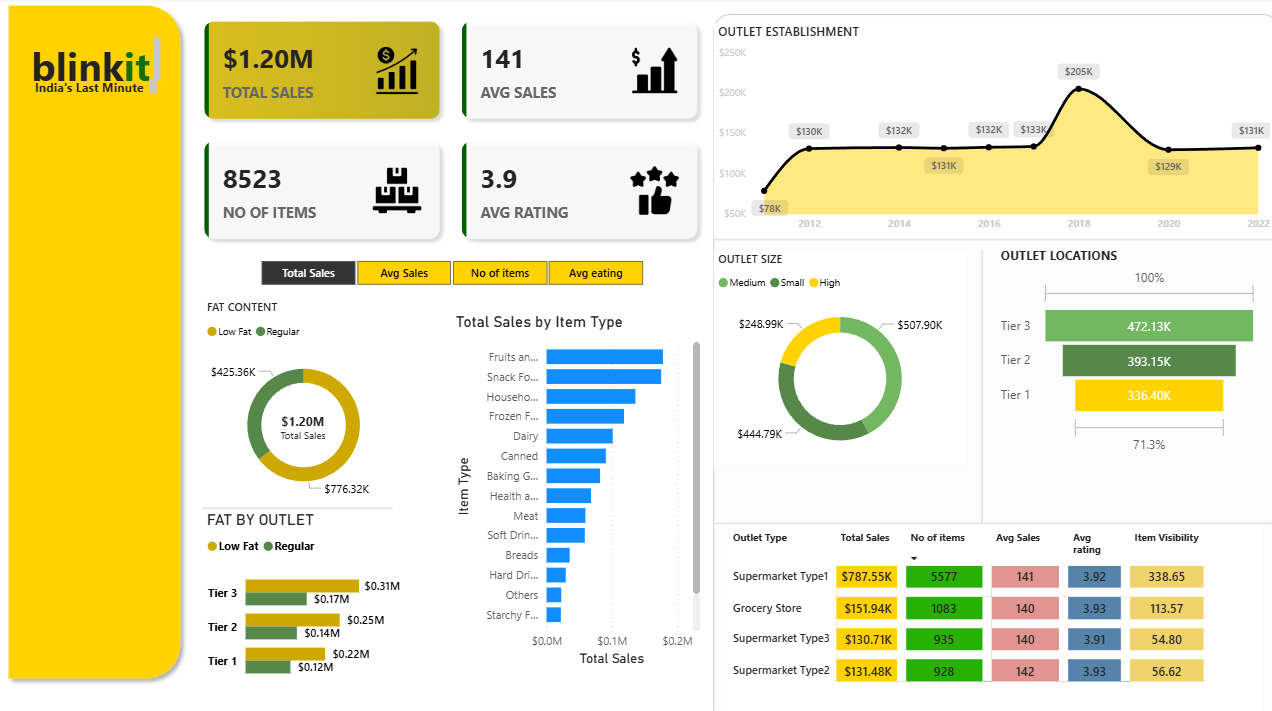

The page's visual inventory and layout, read from the dashboard file:
{"tool":"powerbi","page":{"name":"Page 1","canvas":[1400,800],"ordinal":0},"visuals":[{"type":"shape","box":[0,0,205.2,750],"z":0},{"type":"textbox","box":[27.2,39.4,152.2,61.1],"z":1000},{"type":"textbox","box":[27,84,148.6,31.5],"z":2000},{"type":"cardVisual","fields":{"Data":["BlinkIT Grocery Data.Total Sales","BlinkIT Grocery Data.Avg Sales","BlinkIT Grocery Data.No of items","BlinkIT Grocery Data.Avg eating"]},"box":[205.2,9.5,570.7,270.4],"z":3000},{"type":"donutChart","title":"FAT CONTENT","fields":{"Y":["BlinkIT Grocery Data.Total Sales"],"Category":["BlinkIT Grocery Data.Item Fat Content"]},"box":[220.1,328.8,220.1,229.6],"z":4000},{"type":"slicer","fields":{"Values":["Metrics.Metrics"]},"box":[258.2,279.9,464.7,39.4],"z":5000},{"type":"cardVisual","fields":{"Data":["BlinkIT Grocery Data.Total Sales"]},"box":[285.3,434.8,88.3,61.1],"z":6000},{"type":"clusteredBarChart","title":"FAT BY OUTLET","fields":{"Y":["BlinkIT Grocery Data.Total Sales"],"Category":["BlinkIT Grocery Data.Outlet Location Type"],"Series":["BlinkIT Grocery Data.Item Fat Content"]},"box":[220.1,558.4,220.1,198.4],"z":7000},{"type":"shape","box":[220.1,531.3,206.5,48.9],"z":8000},{"type":"barChart","fields":{"Y":["BlinkIT Grocery Data.Total Sales"],"Category":["BlinkIT Grocery Data.Item Type"]},"box":[490.5,342.4,275.8,389.9],"z":9000},{"type":"shape","box":[766.3,9.5,633.2,790.8],"z":10000},{"type":"lineChart","title":"OUTLET ESTABLISHMENT","fields":{"Y":["BlinkIT Grocery Data.Total Sales"],"Category":["BlinkIT Grocery Data.Outlet Establishment Year"]},"box":[775.8,28.5,610.1,235.1],"z":11000},{"type":"shape","box":[775.8,239.1,623.6,48.9],"z":12000},{"type":"donutChart","title":"OUTLET SIZE","fields":{"Y":["BlinkIT Grocery Data.Total Sales"],"Category":["BlinkIT Grocery Data.Outlet Size"]},"box":[775.8,275.8,275,235],"z":13000},{"type":"shape","box":[1051.6,274.5,31.3,514.9],"z":14000},{"type":"funnel","title":"OUTLET LOCATIONS","fields":{"Y":["Sum(BlinkIT Grocery Data.Sales)"],"Category":["BlinkIT Grocery Data.Outlet Location Type"]},"box":[1082.9,271.7,289.4,229.6],"z":15000},{"type":"pivotTable","fields":{"Rows":["BlinkIT Grocery Data.Outlet Type"],"Values":["BlinkIT Grocery Data.Total Sales","BlinkIT Grocery Data.No of items","BlinkIT Grocery Data.Avg Sales","BlinkIT Grocery Data.Avgf rating","Sum(BlinkIT Grocery Data.Item Visibility)"]},"box":[786.7,572,585.6,203.8],"z":16000},{"type":"shape","box":[775.8,547.6,610.1,48.9],"z":17000}]}

Visuals, with their boxes in screenshot pixels (x1, y1, x2, y2), scaled from the page's 1400x800 canvas onto the 1272x711 screenshot:
shape: l=0, t=0, r=186, b=667
textbox: l=25, t=35, r=163, b=89
textbox: l=25, t=75, r=160, b=103
cardVisual - BlinkIT Grocery Data.Total Sales x BlinkIT Grocery Data.Avg Sales: l=186, t=8, r=705, b=249
"FAT CONTENT" donutChart: l=200, t=292, r=400, b=496
slicer - Metrics.Metrics: l=235, t=249, r=657, b=284
cardVisual - BlinkIT Grocery Data.Total Sales: l=259, t=386, r=339, b=441
"FAT BY OUTLET" clusteredBarChart: l=200, t=496, r=400, b=673
shape: l=200, t=472, r=388, b=516
barChart - BlinkIT Grocery Data.Total Sales x BlinkIT Grocery Data.Item Type: l=446, t=304, r=696, b=651
shape: l=696, t=8, r=1271, b=710
"OUTLET ESTABLISHMENT" lineChart: l=705, t=25, r=1259, b=234
shape: l=705, t=213, r=1271, b=256
"OUTLET SIZE" donutChart: l=705, t=245, r=955, b=454
shape: l=955, t=244, r=984, b=702
"OUTLET LOCATIONS" funnel: l=984, t=241, r=1247, b=446
pivotTable - BlinkIT Grocery Data.Outlet Type x BlinkIT Grocery Data.Total Sales: l=715, t=508, r=1247, b=689
shape: l=705, t=487, r=1259, b=530
